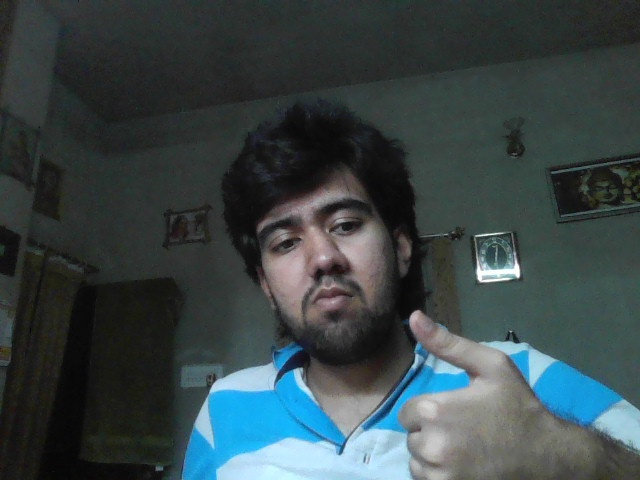Ok: (400, 309, 554, 480)
